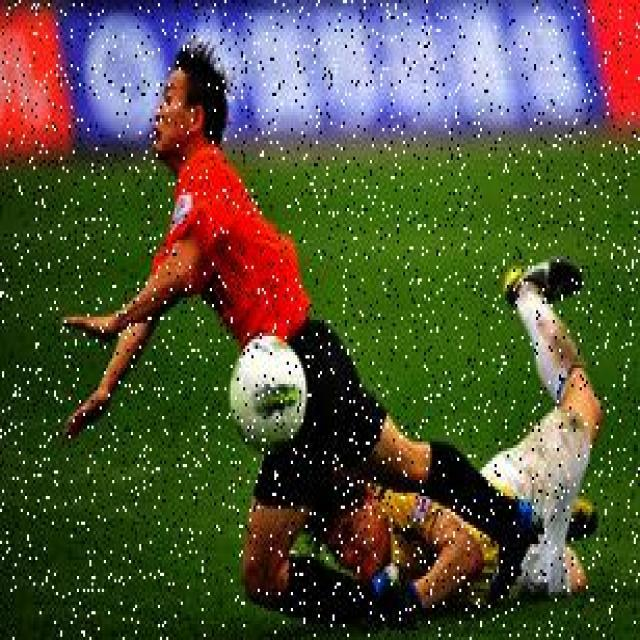fall: (312, 291, 611, 602)
